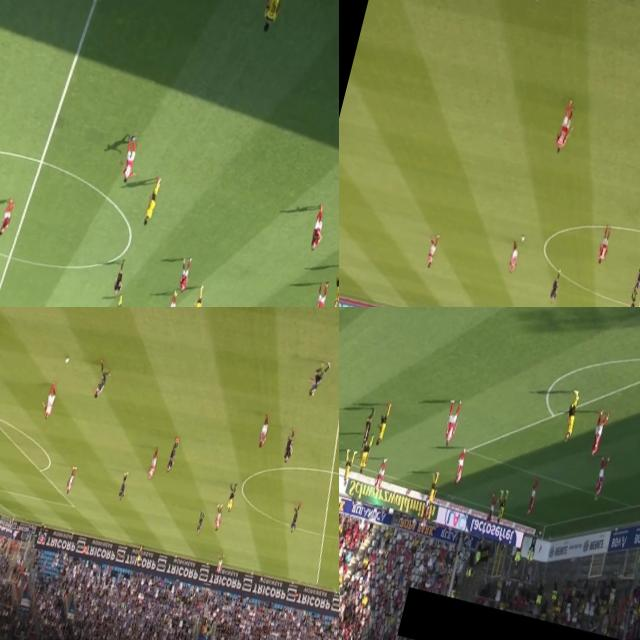ball: (60, 352, 74, 368), (518, 234, 527, 242), (419, 522, 424, 528)
player: (254, 0, 295, 38), (560, 385, 584, 446), (552, 102, 577, 156), (304, 356, 332, 404), (140, 175, 164, 228), (116, 133, 140, 186), (441, 397, 464, 447), (587, 411, 609, 462), (590, 454, 612, 504), (308, 204, 328, 254), (92, 360, 114, 402), (592, 226, 612, 269), (40, 378, 60, 420), (372, 405, 390, 450), (370, 454, 388, 498), (424, 229, 443, 270), (546, 266, 566, 304), (162, 435, 181, 474), (506, 237, 523, 278), (144, 446, 162, 484), (451, 446, 468, 486), (521, 480, 538, 520), (356, 438, 374, 475), (175, 256, 192, 295), (424, 472, 442, 508), (339, 448, 355, 487), (282, 428, 298, 466), (286, 501, 302, 536), (483, 497, 499, 532), (0, 199, 14, 238), (62, 463, 79, 495), (114, 471, 131, 503), (492, 490, 508, 524), (255, 416, 271, 449), (328, 263, 339, 307), (210, 502, 224, 536), (310, 284, 330, 307), (189, 282, 207, 307), (630, 260, 640, 301), (194, 511, 208, 536), (162, 290, 181, 307), (214, 553, 226, 578), (109, 292, 127, 307)
